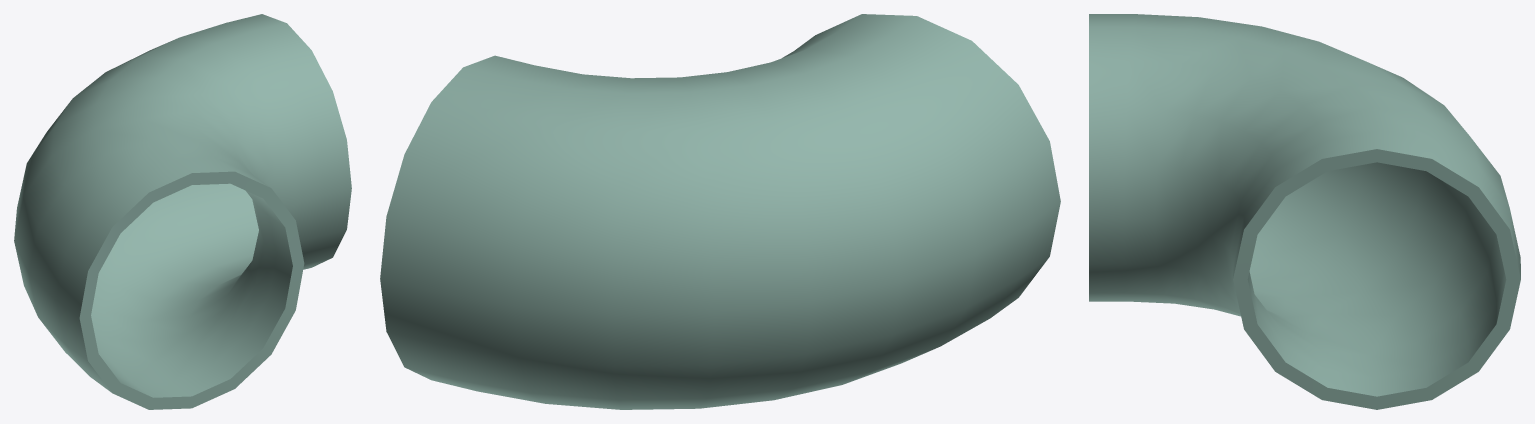
The model's file is PipeLarge_Hollow_Bent_01.fbx.
The picture shows the model from 3 angles, left to right: view 1: azimuth 30°, elevation 25°; view 2: azimuth 150°, elevation 25°; view 3: azimuth 270°, elevation 25°; orthographic projection. The views are drawn at different scales.
Parts seen in each view (by area): view 1: PipeLarge_Hollow_Bent_01.001; view 2: PipeLarge_Hollow_Bent_01.001; view 3: PipeLarge_Hollow_Bent_01.001.
Part boxes in pixels (x1,y1,x2,y2): PipeLarge_Hollow_Bent_01.001: (14, 14, 351, 409); PipeLarge_Hollow_Bent_01.001: (380, 14, 1060, 409); PipeLarge_Hollow_Bent_01.001: (1089, 14, 1520, 409).
Size of the model in its own units: 0.3001 by 0.2 by 0.3001.
